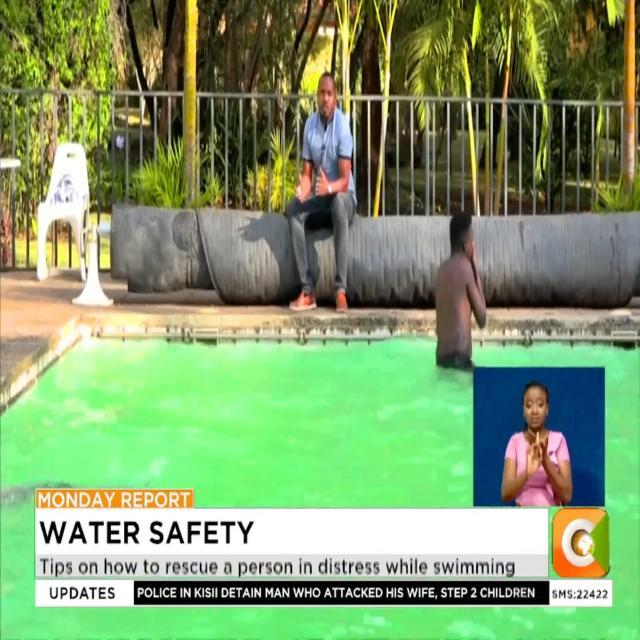out of water: (289, 66, 371, 313)
swimming: (429, 206, 491, 382)
